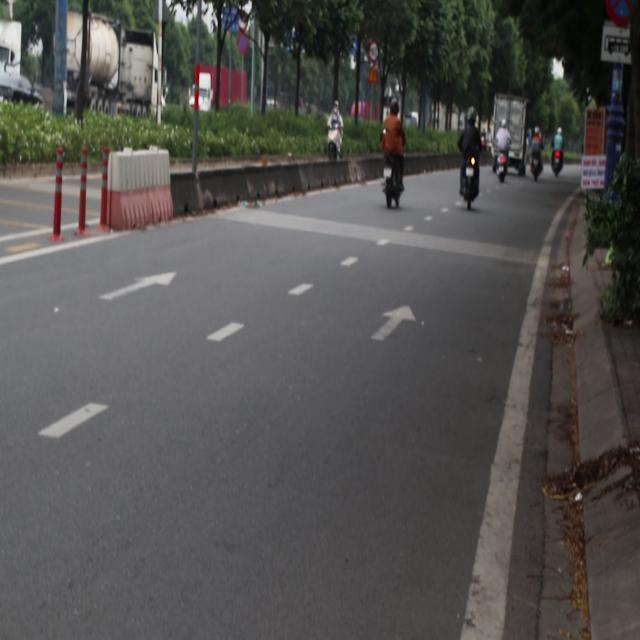car: (0, 74, 42, 110)
motorbike: (378, 159, 408, 211), (466, 156, 482, 218), (498, 150, 516, 189), (526, 148, 546, 180), (331, 122, 345, 167), (550, 151, 564, 174)
truck: (12, 1, 121, 116), (179, 60, 259, 127), (481, 78, 530, 174)
